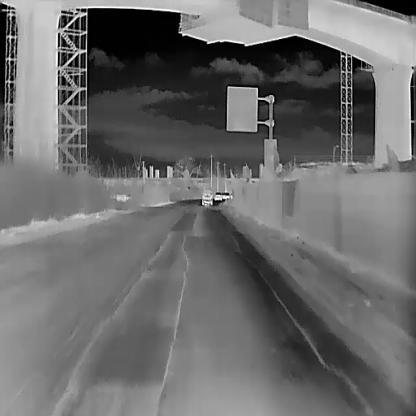car: (201, 190, 212, 205), (222, 191, 230, 199), (214, 192, 221, 201)
